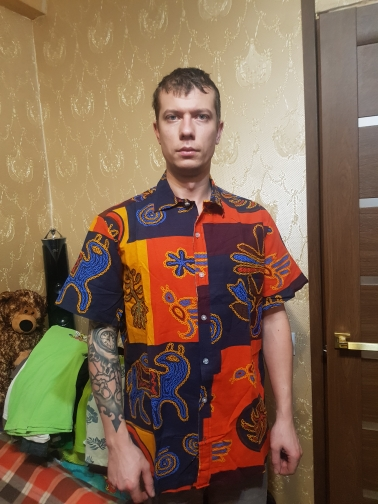shirts: (61, 174, 309, 477)
